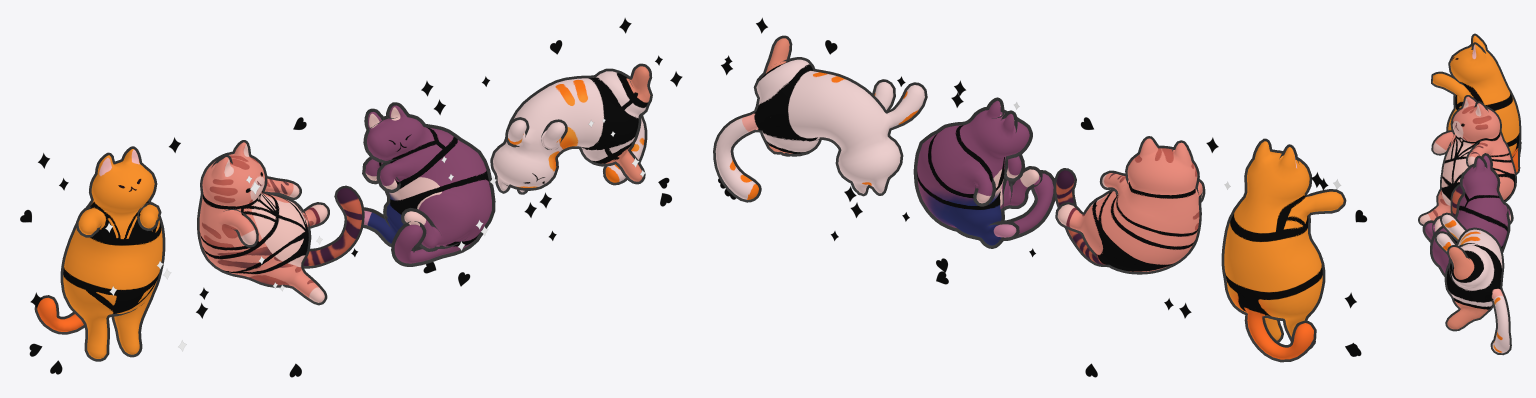
The model's file is meyoco_-_cat.glb.
3 renders of one model, left to right at view 1: azimuth 30°, elevation 25°; view 2: azimuth 150°, elevation 25°; view 3: azimuth 270°, elevation 25°, orthographic. The views are drawn at different scales.
Visible parts, largest first — view 1: polySurface11, polySurface8, polySurface4, polySurface10, polySurface7, polySurface3, polySurface5, polySurface9; view 2: polySurface11, polySurface10, polySurface4, polySurface8, polySurface7, polySurface9, polySurface5, polySurface3; view 3: polySurface10, polySurface4, polySurface11, polySurface8, polySurface9, polySurface7, polySurface3, polySurface5.
Boxes of the visible parts, left/top/right/bottom form: polySurface11: left=37, top=149, right=162, bottom=358; polySurface8: left=364, top=105, right=491, bottom=263; polySurface4: left=199, top=142, right=362, bottom=302; polySurface10: left=493, top=66, right=650, bottom=192; polySurface7: left=362, top=102, right=495, bottom=266; polySurface3: left=197, top=140, right=364, bottom=305; polySurface5: left=34, top=146, right=165, bottom=361; polySurface9: left=490, top=63, right=652, bottom=194; polySurface11: left=1224, top=141, right=1343, bottom=359; polySurface10: left=715, top=38, right=924, bottom=199; polySurface4: left=1056, top=138, right=1202, bottom=271; polySurface8: left=917, top=100, right=1053, bottom=245; polySurface7: left=913, top=97, right=1055, bottom=248; polySurface9: left=713, top=35, right=927, bottom=202; polySurface5: left=1221, top=138, right=1346, bottom=362; polySurface3: left=1053, top=136, right=1205, bottom=274; polySurface10: left=1436, top=214, right=1509, bottom=353; polySurface4: left=1420, top=96, right=1515, bottom=224; polySurface11: left=1432, top=35, right=1519, bottom=172; polySurface8: left=1425, top=155, right=1510, bottom=273; polySurface9: left=1434, top=212, right=1511, bottom=355; polySurface7: left=1422, top=153, right=1513, bottom=276; polySurface3: left=1418, top=95, right=1516, bottom=225; polySurface5: left=1431, top=33, right=1521, bottom=174.
Size of the model in its own units: 6.04 by 2.49 by 1.27.
6 materials, 5 textured.
